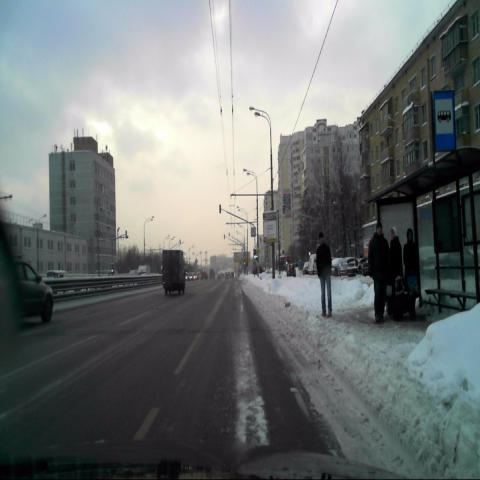5_16: (433, 92, 457, 151)
